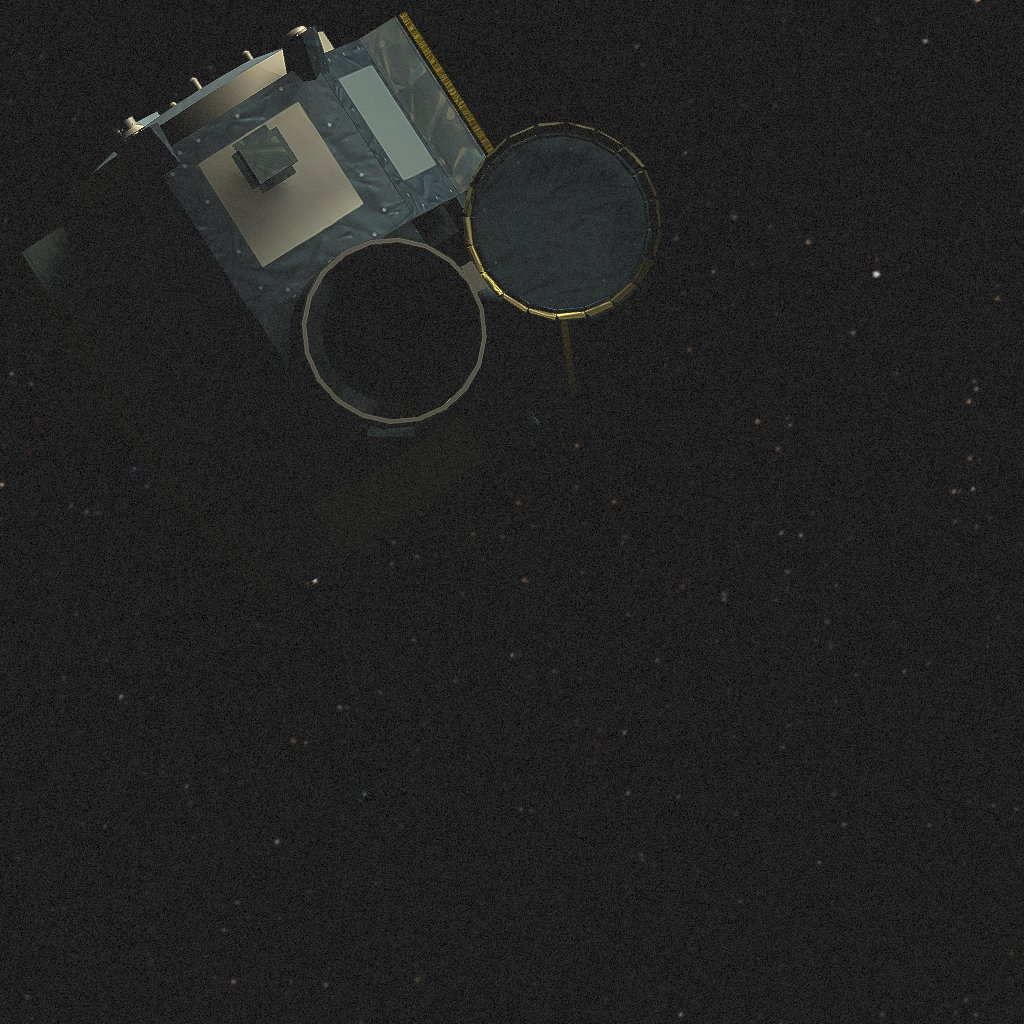cheops: (26, 23, 661, 564)
